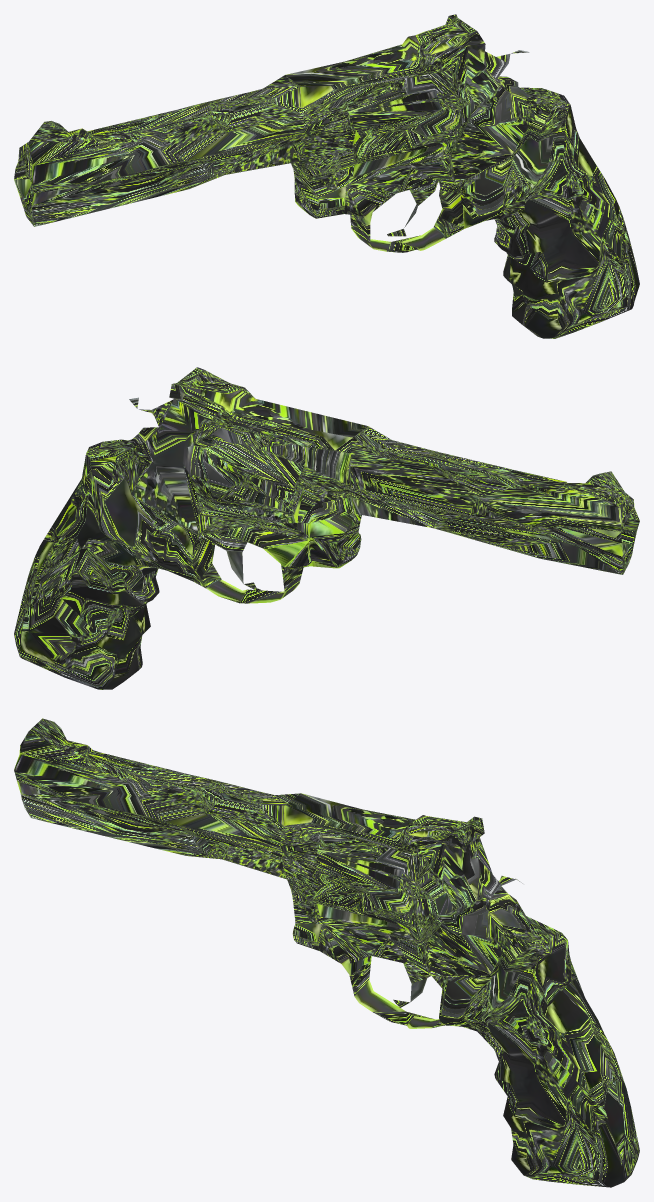
File: gun_revolver_lo.glb
The picture shows the model from 3 angles, top to bottom: view 1: azimuth 30°, elevation 25°; view 2: azimuth 150°, elevation 25°; view 3: azimuth 330°, elevation 25°; orthographic projection.
Visible parts, largest first — view 1: Mesh_0; view 2: Mesh_0; view 3: Mesh_0.
Boxes of the visible parts, bbox=[...] form: Mesh_0: bbox=[14, 14, 639, 338]; Mesh_0: bbox=[14, 367, 639, 689]; Mesh_0: bbox=[14, 718, 639, 1187].
Size of the model in its own units: 1.9 by 0.9868 by 0.2667.
Materials: 1 (1 with a texture image).
